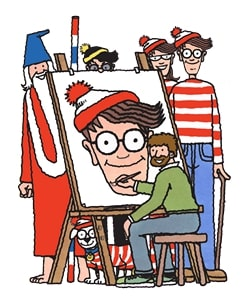Waldo: (70, 85, 146, 174), (172, 24, 214, 112)
